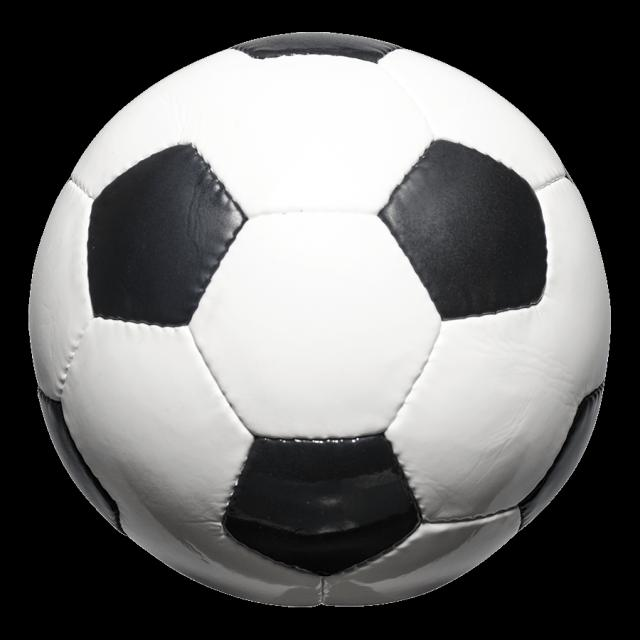soccer ball: (28, 32, 611, 604)
